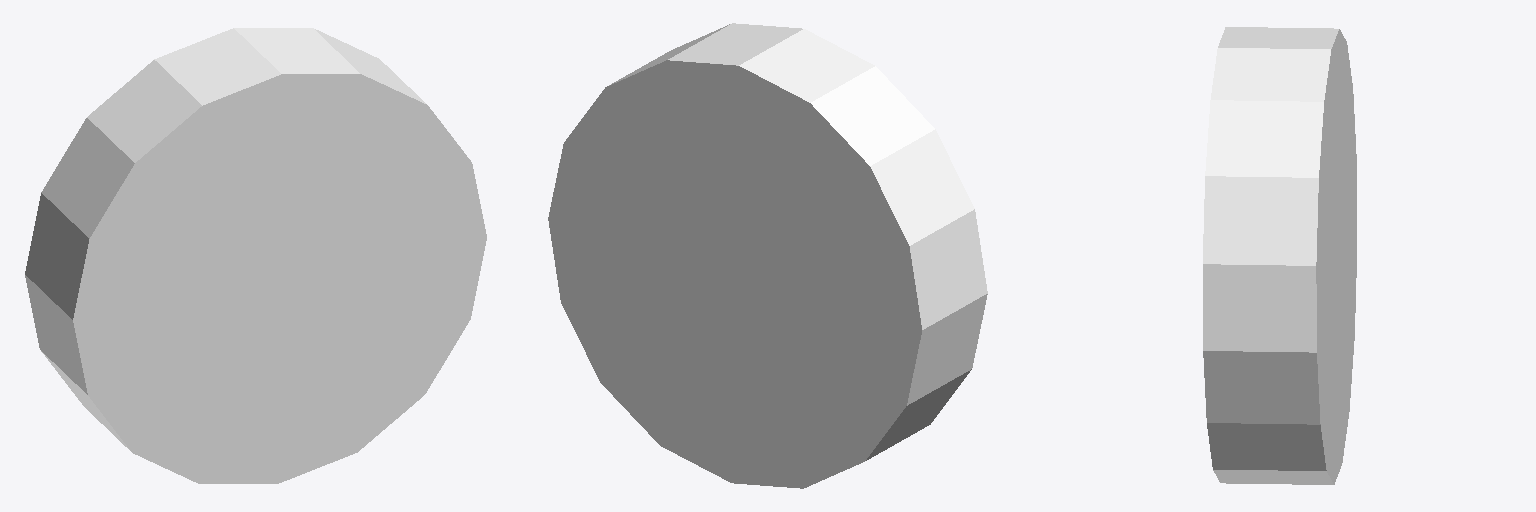
Rendered from cricket_headlight_R.obj.
The picture shows the model from 3 angles: view 1: azimuth 30°, elevation 25°; view 2: azimuth 150°, elevation 25°; view 3: azimuth 270°, elevation 25°; orthographic projection.
Parts seen in each view (by area): view 1: Headlight_R; view 2: Headlight_R; view 3: Headlight_R.
Boxes of the visible parts, x1=… form: Headlight_R: x1=25, y1=28, x2=486, y2=483; Headlight_R: x1=548, y1=23, x2=987, y2=488; Headlight_R: x1=1203, y1=27, x2=1356, y2=484.
Size of the model in its own units: 0.2036 by 0.2011 by 0.0677.